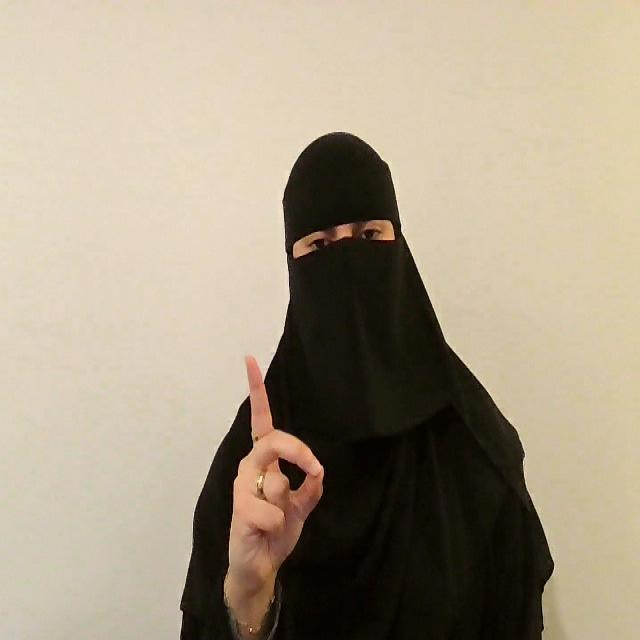emergency: (222, 353, 324, 630)
